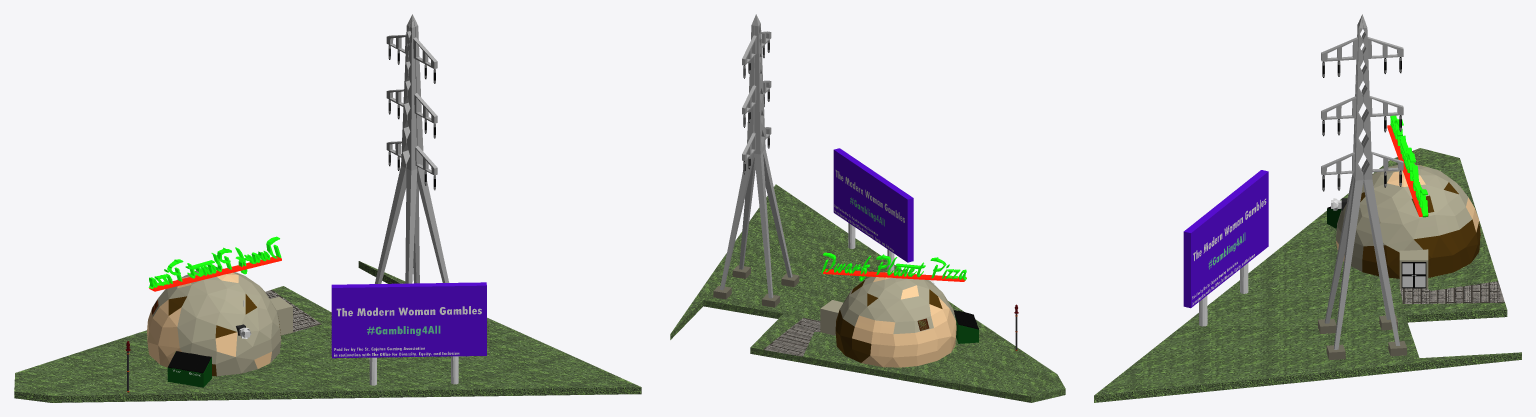
The model's file is Planet Pizza.glb.
3 views of the same model, side by side, from view 1: azimuth 30°, elevation 25°; view 2: azimuth 150°, elevation 25°; view 3: azimuth 270°, elevation 25° (orthographic). The views are drawn at different scales.
Parts seen in each view (by area): view 1: Ground, Board, Sphere, Tower, Sign, Text.001, Dumpster, Entrance; view 2: Ground, Sphere, Tower, Board, Sign, Text.001, Bases, Dumpster, Entrance; view 3: Ground, Sphere, Tower, Board, Sign, Text.001, Bases, Doors, Entrance, Legs.
Boxes of the visible parts, bbox=[...] form: Ground: bbox=[14, 261, 641, 402]; Board: bbox=[331, 282, 486, 358]; Sphere: bbox=[147, 268, 281, 376]; Tower: bbox=[375, 14, 449, 283]; Sign: bbox=[148, 236, 281, 291]; Text.001: bbox=[334, 306, 481, 356]; Dumpster: bbox=[167, 351, 211, 387]; Entrance: bbox=[270, 296, 292, 335]; Ground: bbox=[670, 184, 1065, 402]; Sphere: bbox=[835, 271, 956, 367]; Tower: bbox=[719, 14, 792, 298]; Board: bbox=[833, 148, 913, 262]; Sign: bbox=[821, 252, 966, 281]; Text.001: bbox=[834, 170, 904, 251]; Bases: bbox=[713, 265, 799, 307]; Dumpster: bbox=[953, 310, 978, 343]; Entrance: bbox=[820, 300, 843, 335]; Ground: bbox=[1094, 148, 1521, 402]; Sphere: bbox=[1335, 164, 1480, 278]; Tower: bbox=[1321, 14, 1403, 349]; Board: bbox=[1183, 170, 1268, 308]; Sign: bbox=[1387, 115, 1428, 217]; Text.001: bbox=[1192, 198, 1266, 305]; Bases: bbox=[1318, 315, 1406, 359]; Doors: bbox=[1401, 262, 1426, 288]; Entrance: bbox=[1399, 249, 1428, 288]; Legs: bbox=[1199, 263, 1248, 326].
Size of what is drawn, in the model's own units: 43.13 by 27.21 by 31.5.
Materials: 29 (2 with a texture image).
